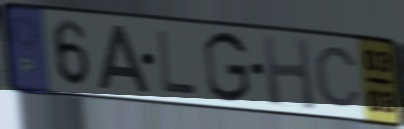6: (49, 17, 91, 90)
A: (96, 23, 152, 94)
C: (312, 44, 363, 110)
G: (201, 29, 253, 105)
H: (259, 33, 319, 114)
L: (154, 28, 200, 97)
